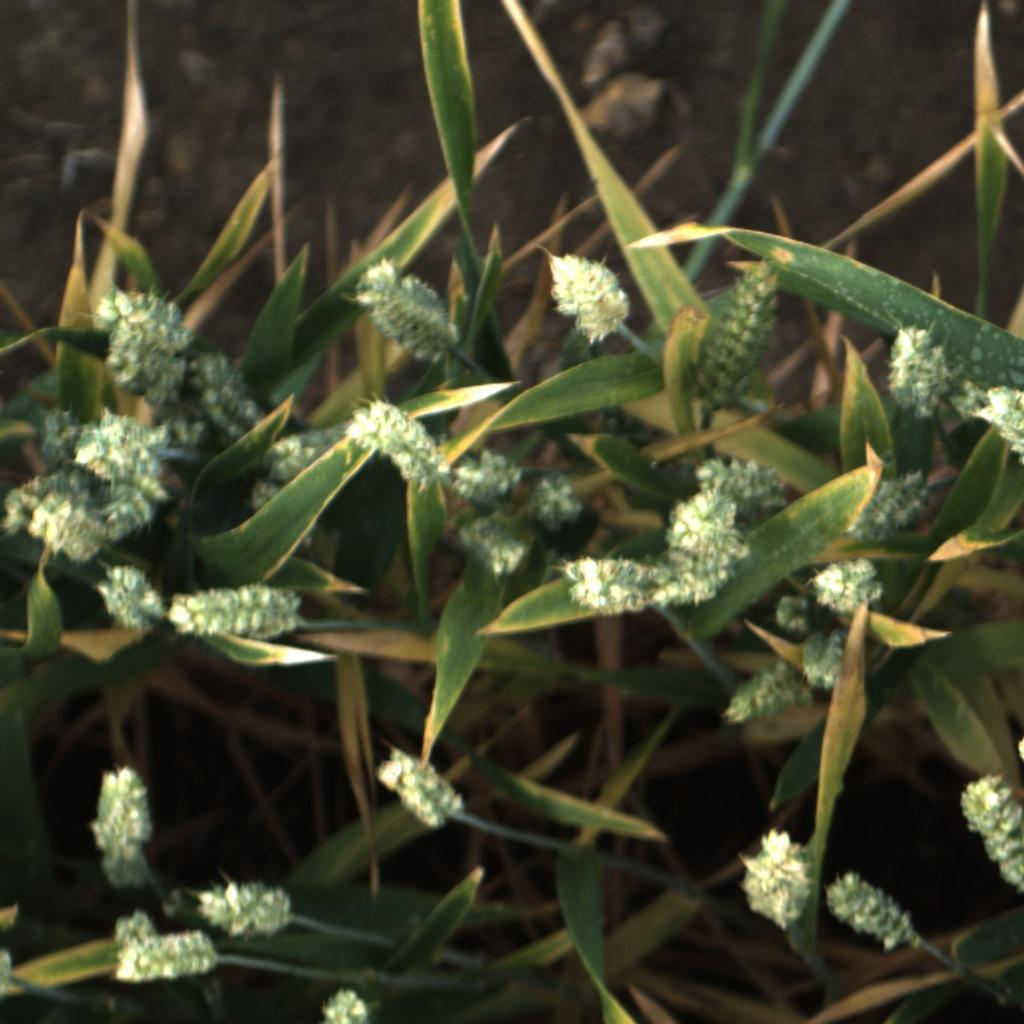0-0: (692, 259, 783, 408), (348, 257, 462, 367), (162, 576, 307, 645), (655, 537, 759, 623), (541, 249, 635, 343), (348, 398, 443, 489), (953, 774, 1023, 897), (103, 317, 194, 408), (735, 825, 813, 928), (826, 864, 914, 952), (76, 410, 174, 489), (373, 748, 464, 830), (882, 322, 958, 419), (554, 549, 662, 614), (2, 463, 92, 540), (85, 762, 158, 854), (110, 927, 218, 988), (196, 877, 295, 942), (667, 490, 743, 571), (686, 449, 791, 507), (843, 470, 930, 540), (92, 470, 173, 543), (92, 560, 167, 637), (445, 443, 521, 514), (91, 833, 162, 909), (90, 285, 186, 340), (452, 511, 528, 578), (719, 664, 795, 730), (805, 556, 890, 615), (32, 402, 111, 462), (978, 384, 1024, 485), (199, 377, 266, 444), (253, 428, 324, 488), (144, 388, 208, 452), (528, 466, 589, 532), (792, 626, 847, 698), (49, 505, 111, 565), (947, 370, 999, 424), (178, 347, 237, 393), (769, 589, 821, 636), (315, 986, 378, 1024), (107, 910, 155, 946), (154, 885, 199, 919), (246, 478, 283, 511), (0, 948, 16, 998)
